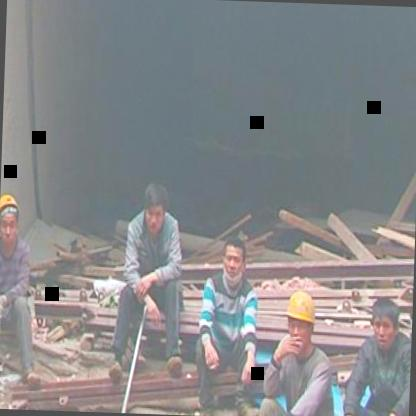head: (368, 288, 404, 348), (214, 230, 250, 288), (140, 181, 170, 234)
helmet: (281, 286, 318, 354), (0, 188, 24, 246)
